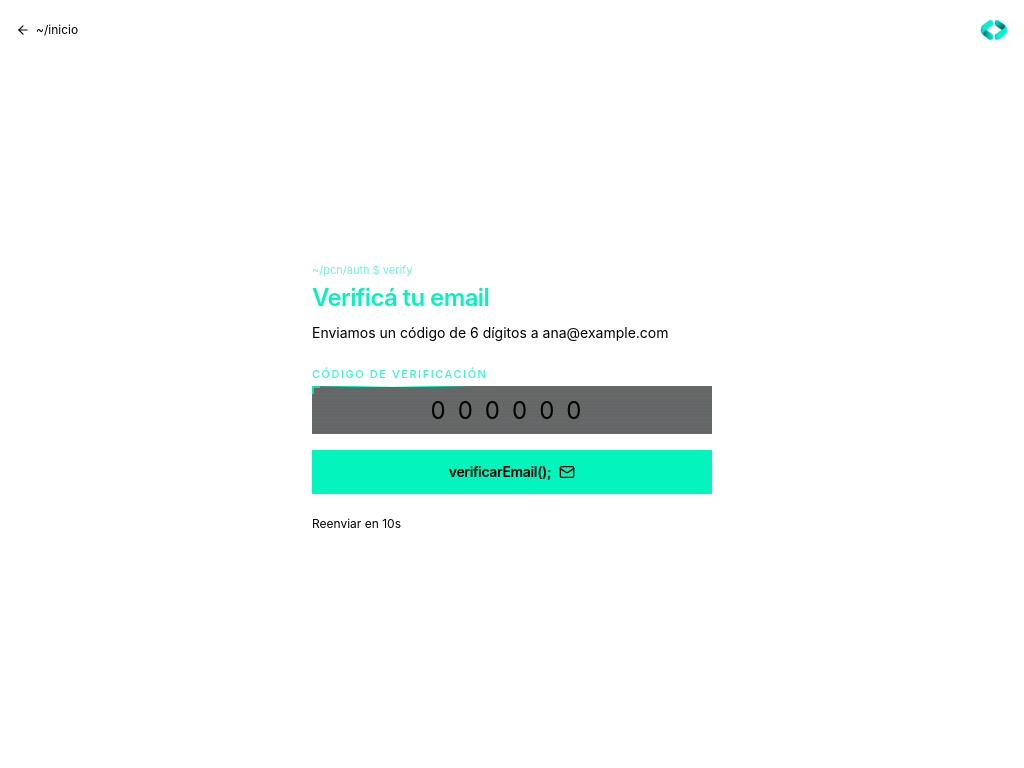
Test: VerifyEmailPage › validates the code
Type "abcdef" into the field labelled "Código de verificación".
click(512, 410); type("abcdef")  # box [312,386,712,434]
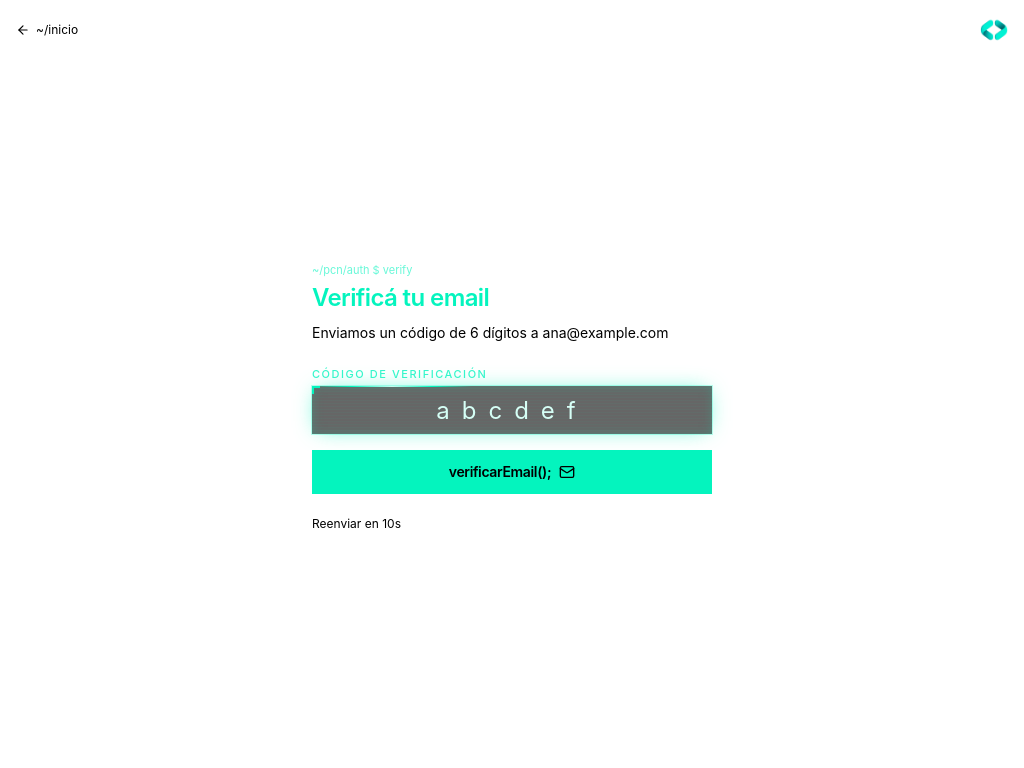
Click the button "verificarEmail();".
click(512, 472)  # box [312,450,712,494]
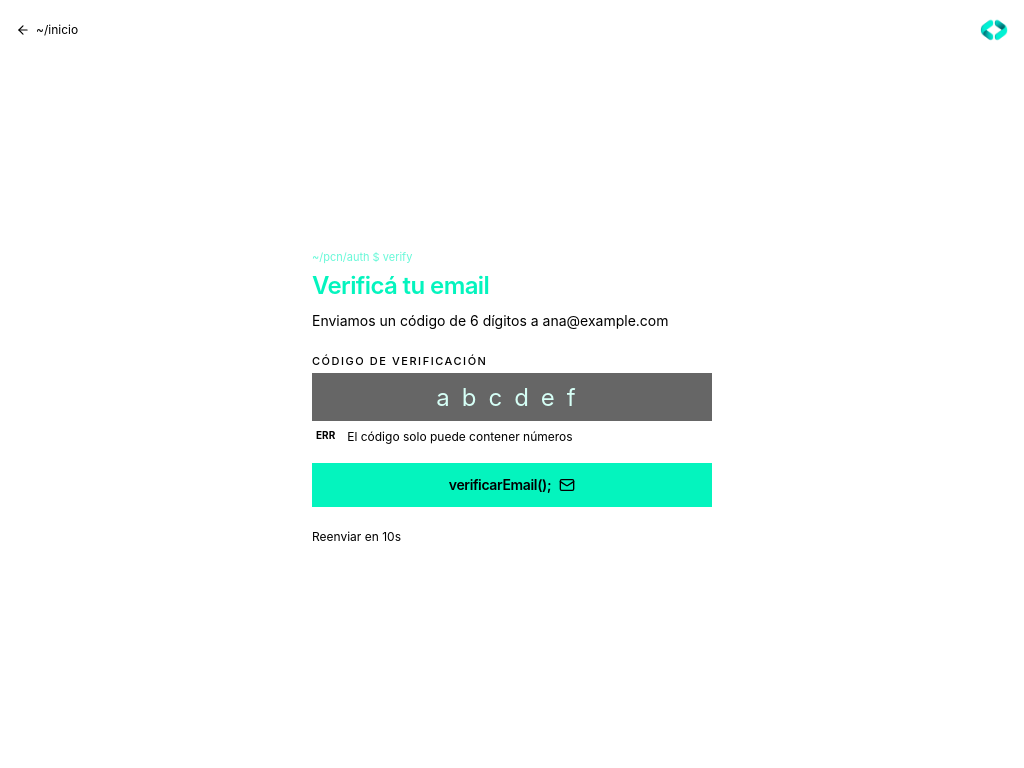
expect the text "El código solo puede contener números" is shown: met, box [347,427,573,447]
